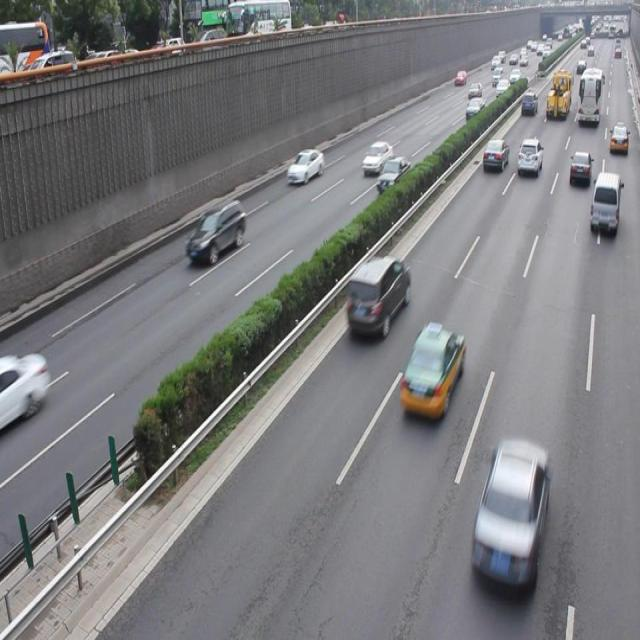car: (470, 435, 550, 591), (399, 320, 464, 418), (1, 349, 50, 426), (186, 200, 244, 262), (287, 146, 324, 184), (376, 156, 410, 194), (360, 140, 392, 175), (481, 138, 508, 174), (515, 138, 541, 174), (568, 150, 591, 188)
truck: (345, 254, 408, 337), (589, 172, 620, 233)
